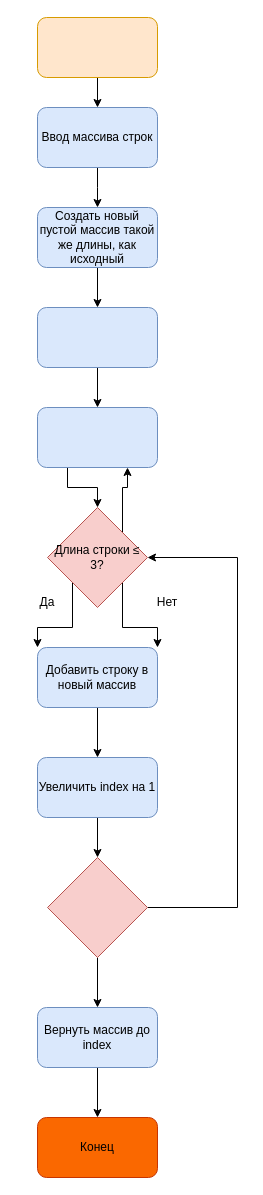
The diagram is 263 pixels wide and 1195 high, and some of its shapes have lost their labels. The shapes that lost their labels are listed below. From the top down, each one's box as (x1, y1, x2, y2) in pixels, then its label:
(36, 16, 158, 78): Начало
(36, 306, 158, 368): Инициализация index = 0
(36, 406, 158, 468): Цикл по элементам исходного массива
(46, 856, 148, 958): Следующий элемент?
